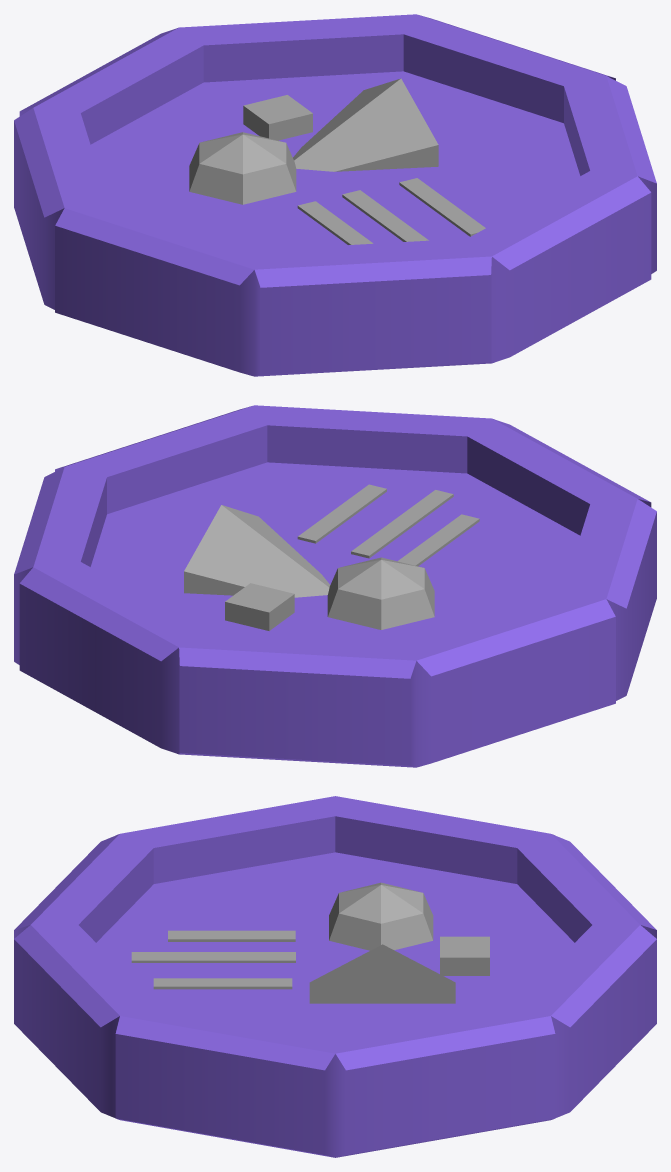
Rendered from DiscoTransporte.fbx.
The picture shows the model from 3 angles, top to bottom: view 1: azimuth 30°, elevation 25°; view 2: azimuth 150°, elevation 25°; view 3: azimuth 270°, elevation 25°; orthographic projection. The views are drawn at different scales.
Parts seen in each view (by area): view 1: DiscoTransporte, SimboloTransporte; view 2: DiscoTransporte, SimboloTransporte; view 3: DiscoTransporte, SimboloTransporte.
Part boxes in pixels (x1,y1,x2,y2): DiscoTransporte: [14, 14, 656, 376]; SimboloTransporte: [189, 78, 485, 244]; DiscoTransporte: [14, 405, 656, 767]; SimboloTransporte: [184, 484, 479, 630]; DiscoTransporte: [14, 796, 656, 1157]; SimboloTransporte: [131, 882, 489, 1003].
Size of the model in its own units: 31.64 by 8.29 by 31.64.
